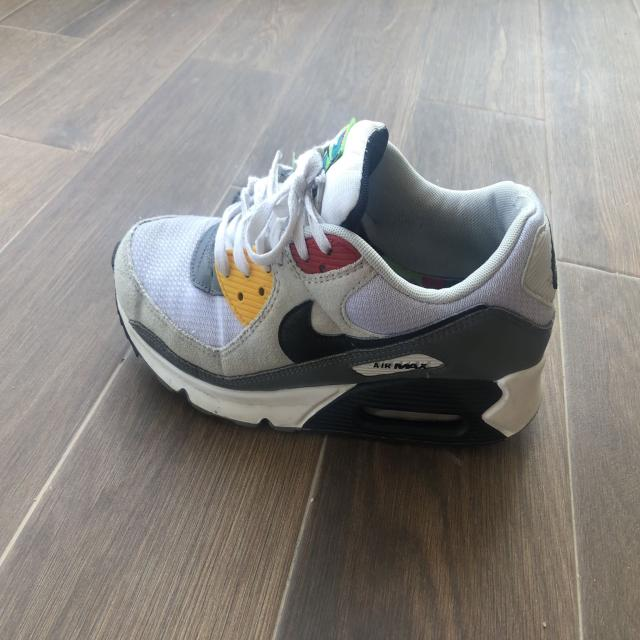shoes: (111, 117, 558, 446)
